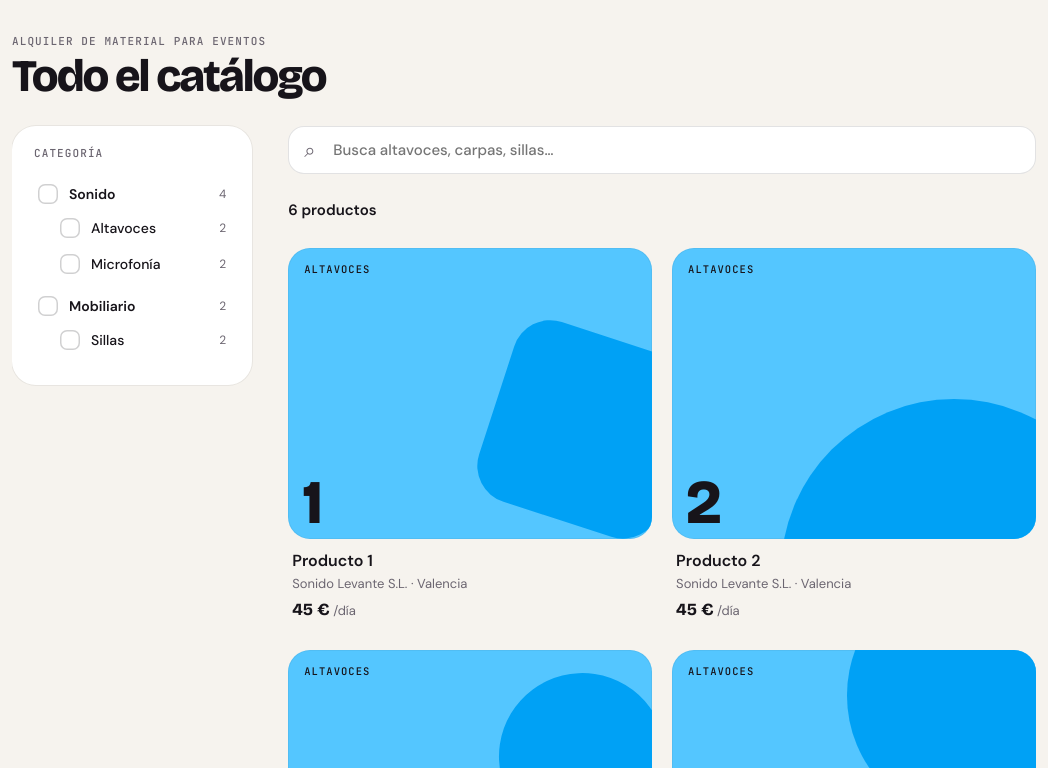
Test: Catalog · filtre per categories › sense resultats amb filtres, ofereix "Quitar filtros"
Click the checkbox labelled "Sillas 2" at (143,340), box [56,323,230,357]
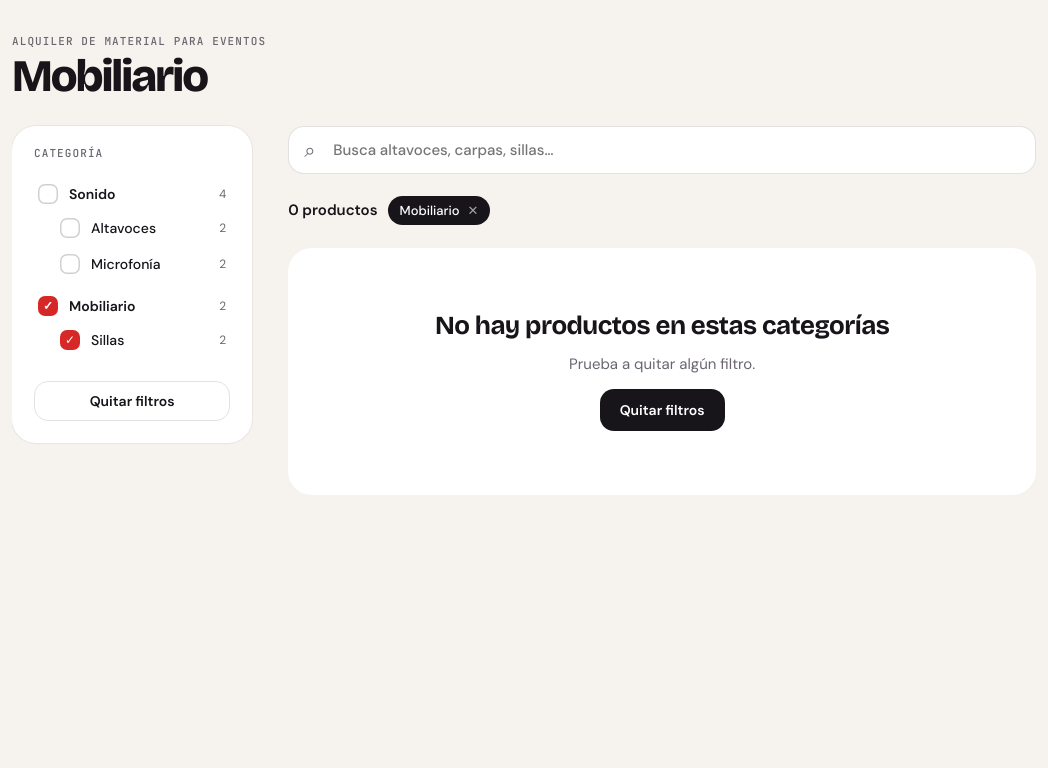
Click the button "Quitar filtros" below "Prueba a quitar algún filtro." at (662,410), box [600,389,725,431]
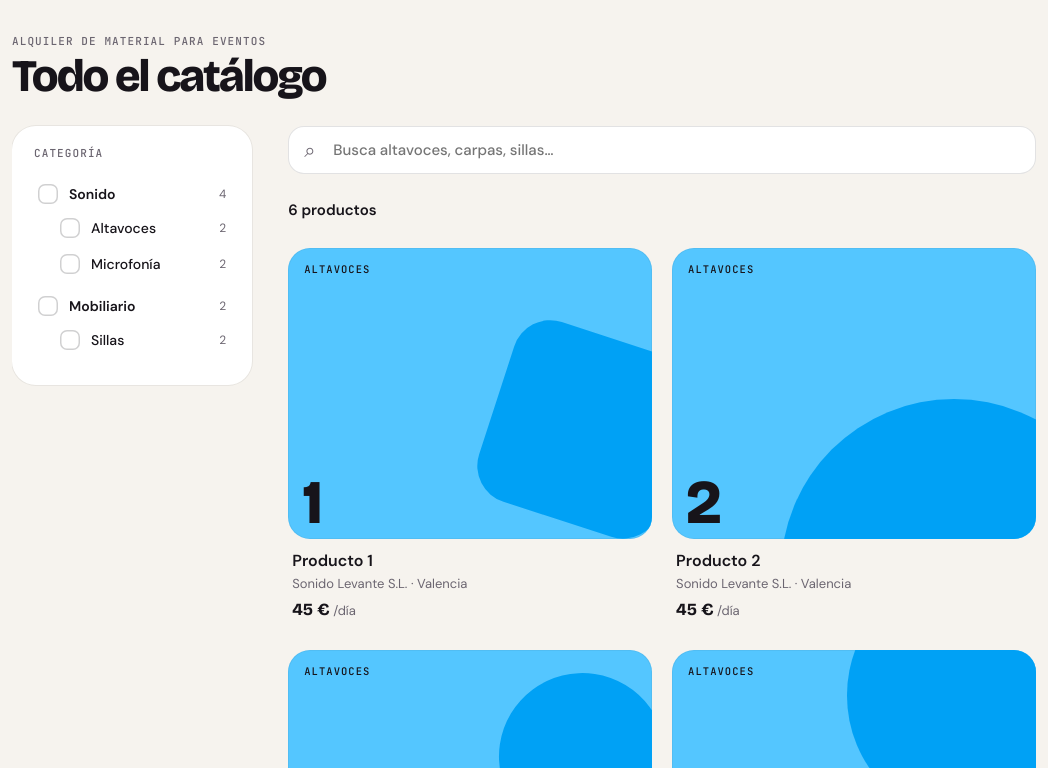
Expected: the text "6 productos" is shown, [288,203,376,218]
